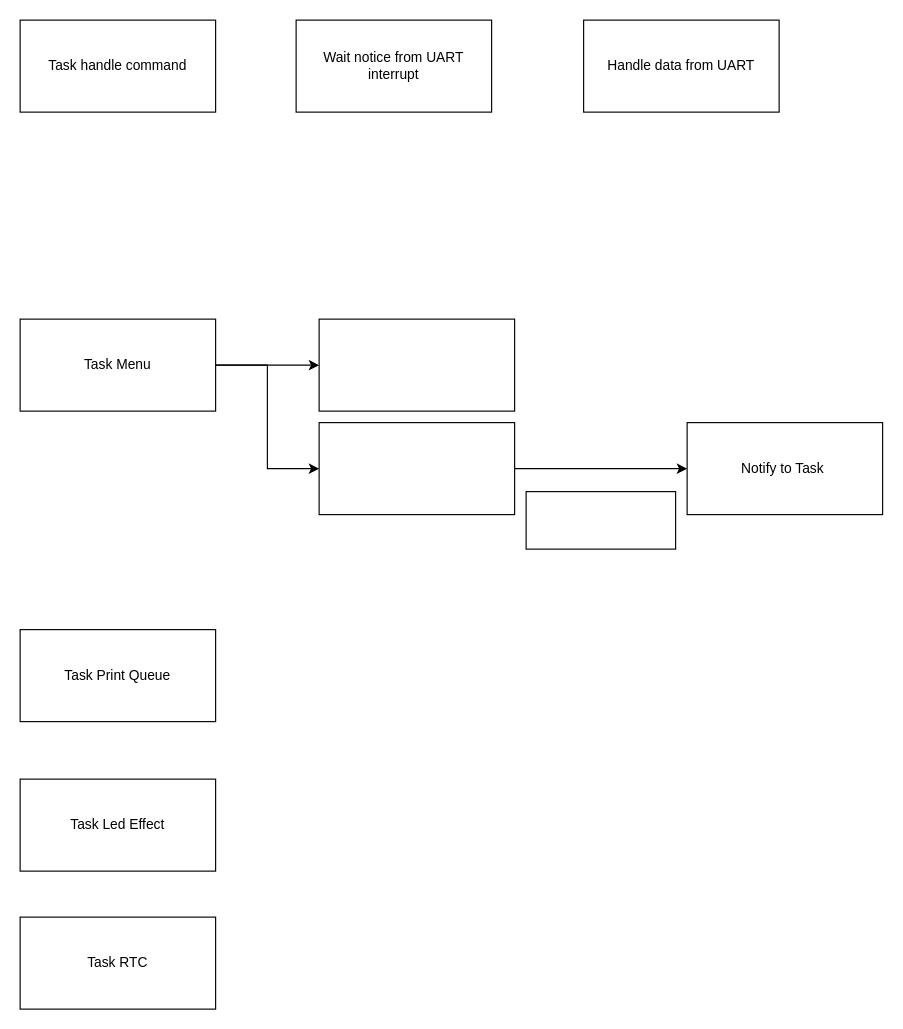
Some shapes in this 903 by 1029 pixel diagram are drawn without their labels. Each missing label, with the centre of its shape:
"Push Menu Infomation to Queue" belongs at (416,364).
"UART IRQ come" belongs at (600,519).
"Wait from CMD from Task handle command" belongs at (416,468).
